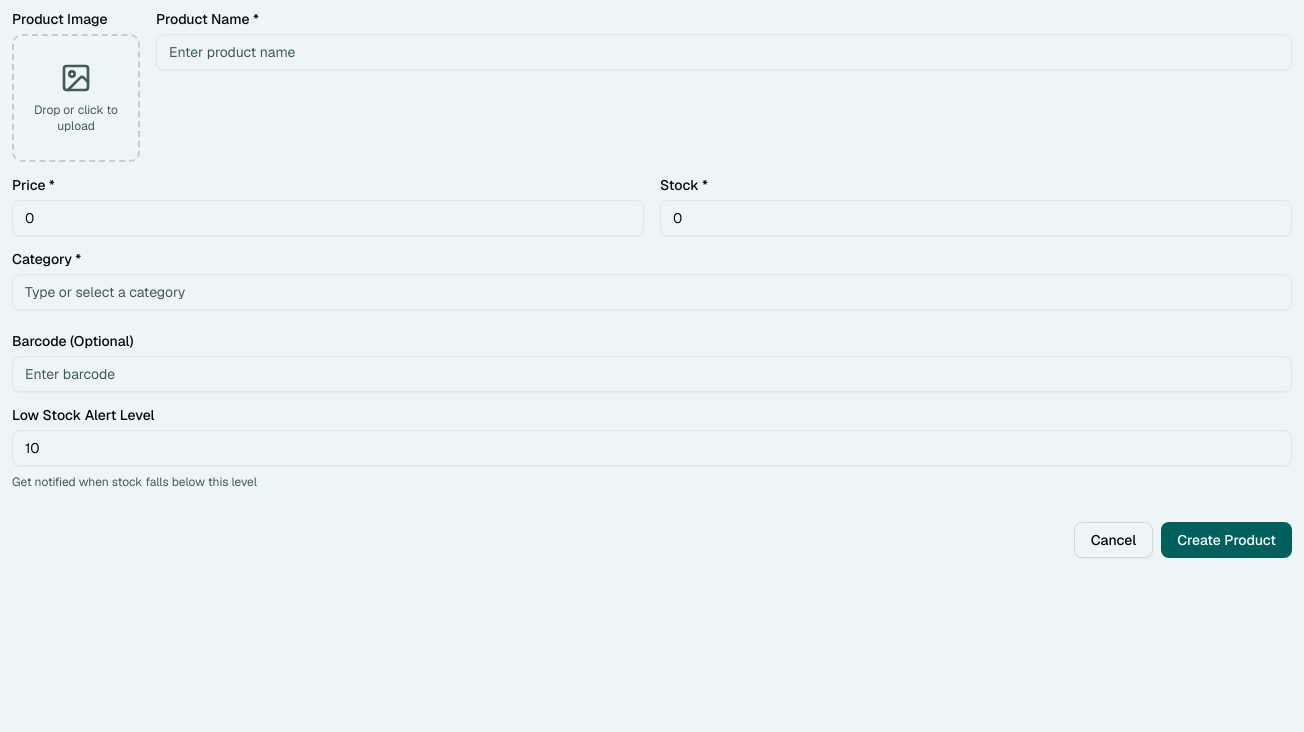
Test: ProductForm › updates category input value when typing character by character
The width and height of the screenshot is (1304, 732).
Note: Type characters incrementally using userEvent
In the field with placeholder "Type or select a category": (652, 292) left=12, top=274, right=1292, bottom=310, type "A"
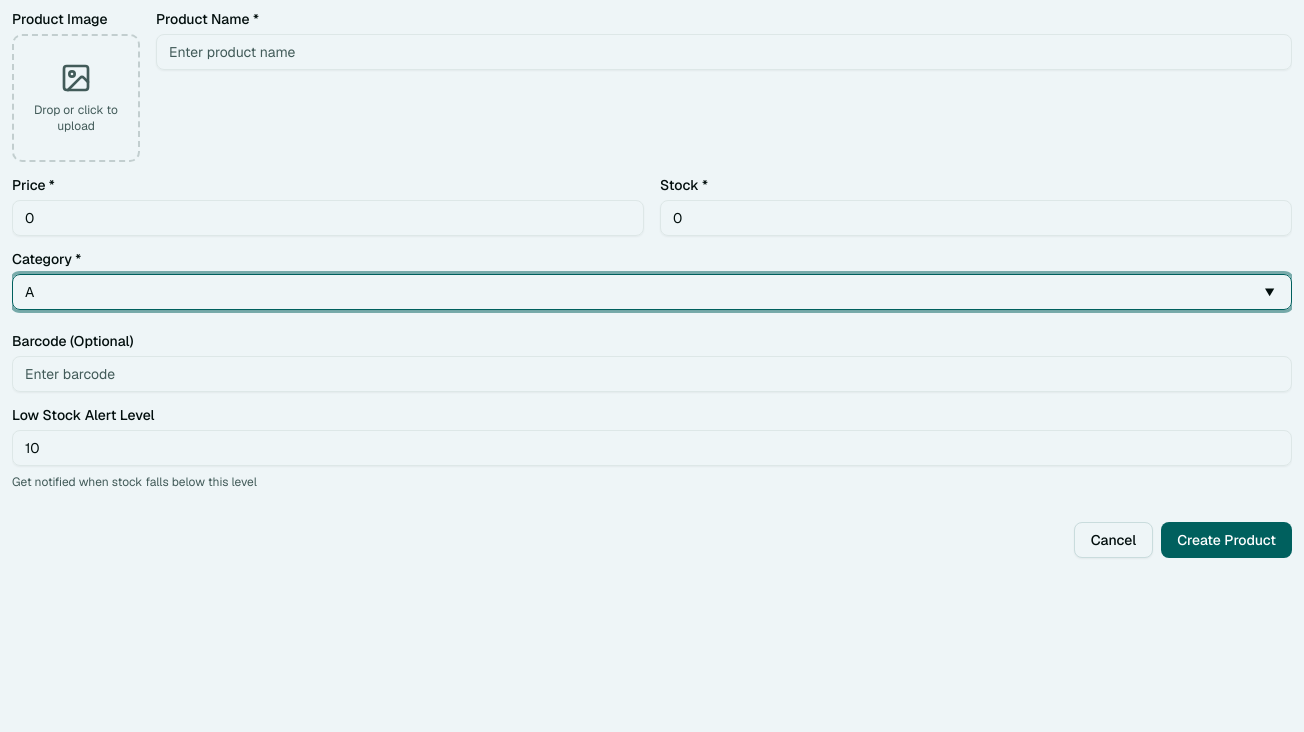
In the field with placeholder "Type or select a category": (652, 292) left=12, top=274, right=1292, bottom=310, type "BC"
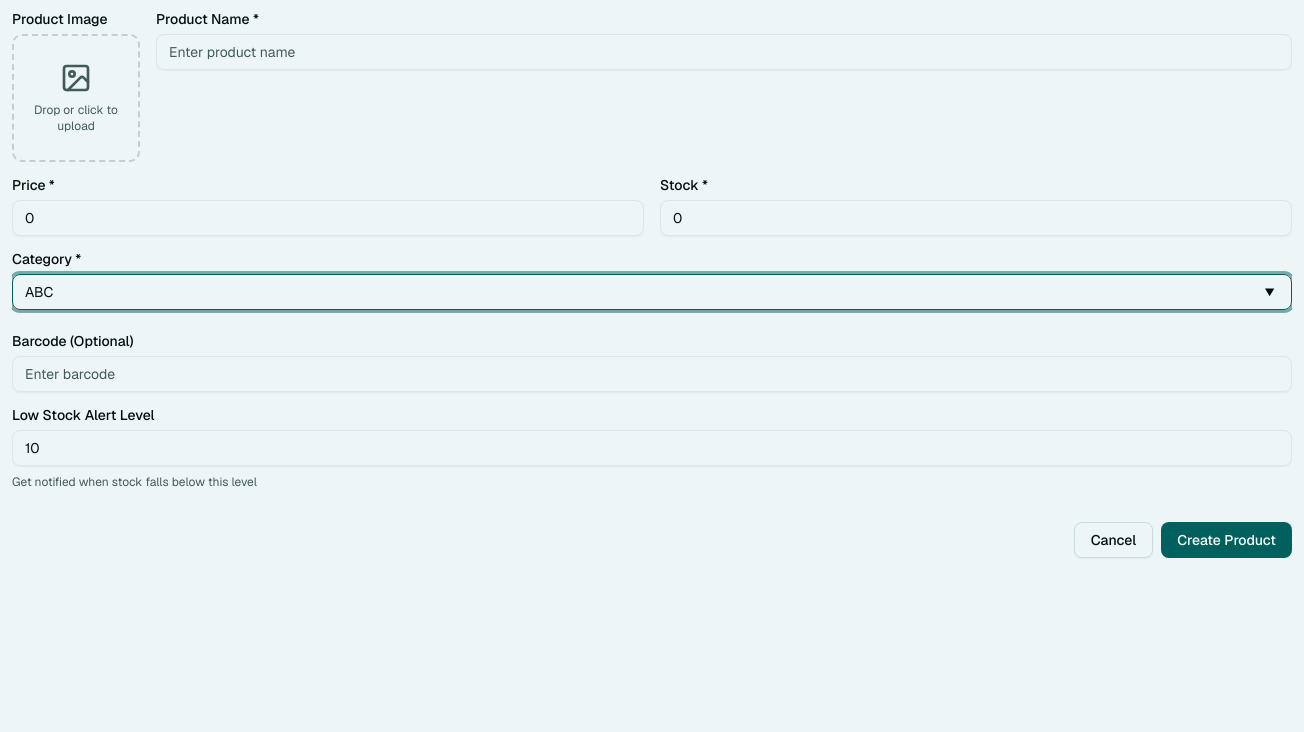
Expected: the field with placeholder "Type or select a category" holds "ABC", left=12, top=274, right=1292, bottom=310
